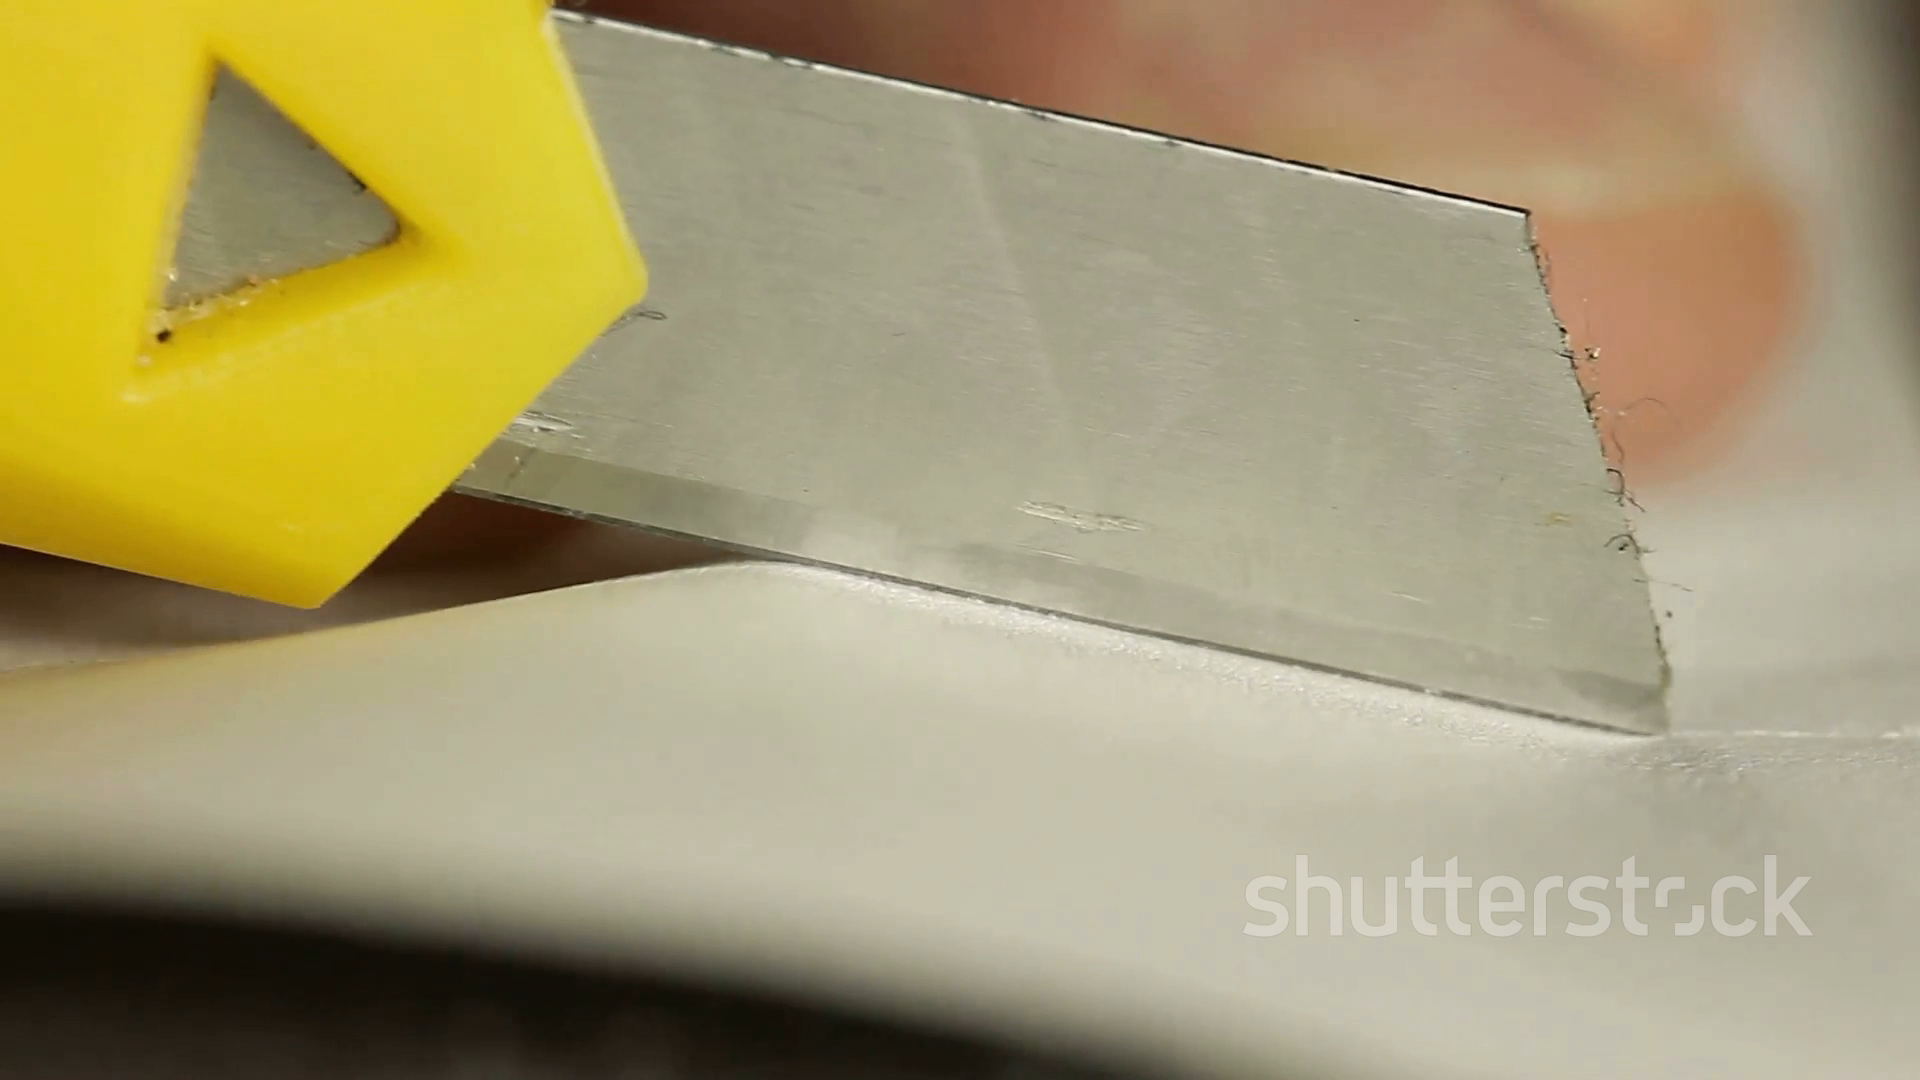cortante: (451, 9, 1667, 745)
